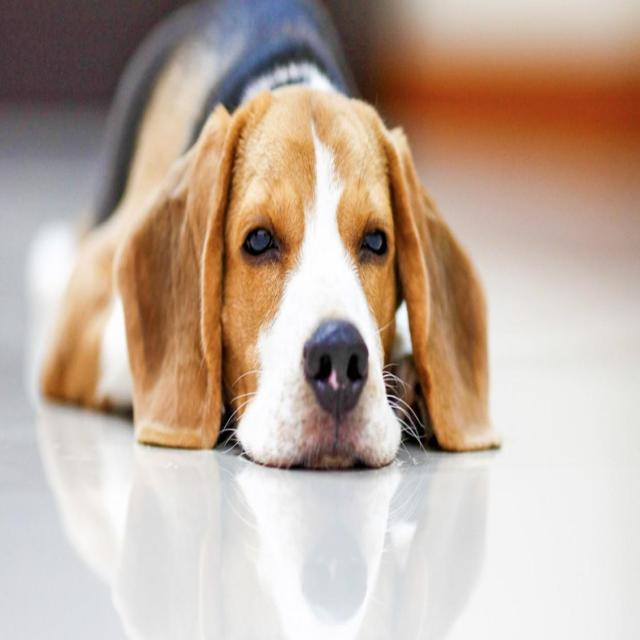Dog: (110, 70, 509, 478)
